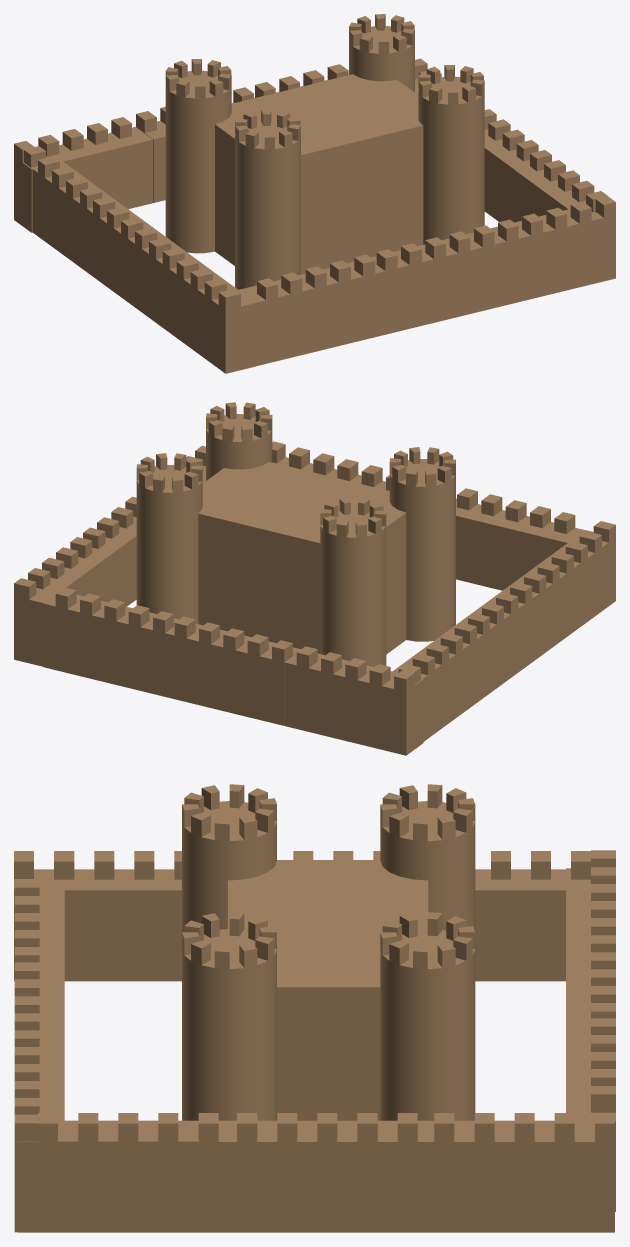
File: Sand Castle 2.fbx
The picture shows the model from 3 angles, top to bottom: view 1: azimuth 30°, elevation 25°; view 2: azimuth 150°, elevation 25°; view 3: azimuth 270°, elevation 25°; orthographic projection. The views are drawn at different scales.
Visible parts, largest first — view 1: pCube2, pCylinder6, pCylinder5, pCylinder7, pCube3, pCube4, pCube5, pCube6, pCube9, pCube7, pCube8, pCylinder8 (+4 smaller); view 2: pCube2, pCube9, pCylinder7, pCube10, pCylinder6, pCube11, pCylinder8, pCube5, pCube7, pCube6, pCube12, pCube8 (+4 smaller); view 3: pCube2, pCube12, pCube13, pCube14, pCylinder8, pCylinder5, pCube6, pCube8, pCylinder7, pCylinder6, pCube11, pCube4 (+4 smaller).
Boxes of the visible parts, left/top/right/bottom form: pCube2: left=215, top=74, right=423, bottom=274; pCylinder6: left=235, top=109, right=300, bottom=289; pCylinder5: left=418, top=65, right=484, bottom=244; pCylinder7: left=165, top=59, right=231, bottom=253; pCube3: left=371, top=225, right=494, bottom=337; pCube4: left=490, top=196, right=615, bottom=307; pCube5: left=236, top=254, right=375, bottom=366; pCube6: left=155, top=247, right=255, bottom=373; pCube9: left=14, top=117, right=152, bottom=232; pCube7: left=86, top=197, right=185, bottom=322; pCube8: left=24, top=146, right=115, bottom=271; pCylinder8: left=349, top=14, right=414, bottom=92; pCube2: left=198, top=462, right=406, bottom=654; pCube9: left=284, top=646, right=423, bottom=755; pCylinder7: left=320, top=498, right=386, bottom=666; pCube10: left=162, top=616, right=300, bottom=725; pCylinder6: left=389, top=447, right=455, bottom=641; pCube11: left=43, top=587, right=178, bottom=695; pCylinder8: left=136, top=453, right=202, bottom=623; pCube5: left=456, top=488, right=586, bottom=590; pCube7: left=446, top=572, right=546, bottom=703; pCube6: left=516, top=521, right=615, bottom=651; pCube12: left=14, top=537, right=114, bottom=666; pCube8: left=385, top=623, right=476, bottom=741; pCube2: left=228, top=860, right=428, bottom=1120; pCube12: left=414, top=1113, right=614, bottom=1232; pCube13: left=217, top=1113, right=417, bottom=1232; pCube14: left=18, top=1113, right=218, bottom=1232; pCylinder8: left=380, top=912, right=475, bottom=1120; pCylinder5: left=182, top=912, right=276, bottom=1120; pCube6: left=14, top=851, right=181, bottom=981; pCube8: left=475, top=851, right=590, bottom=981; pCylinder7: left=380, top=784, right=475, bottom=931; pCylinder6: left=182, top=784, right=276, bottom=932; pCube11: left=566, top=1018, right=615, bottom=1211; pCube4: left=14, top=1047, right=64, bottom=1232.
Size of the model in its own units: 3.23 by 1.31 by 3.
